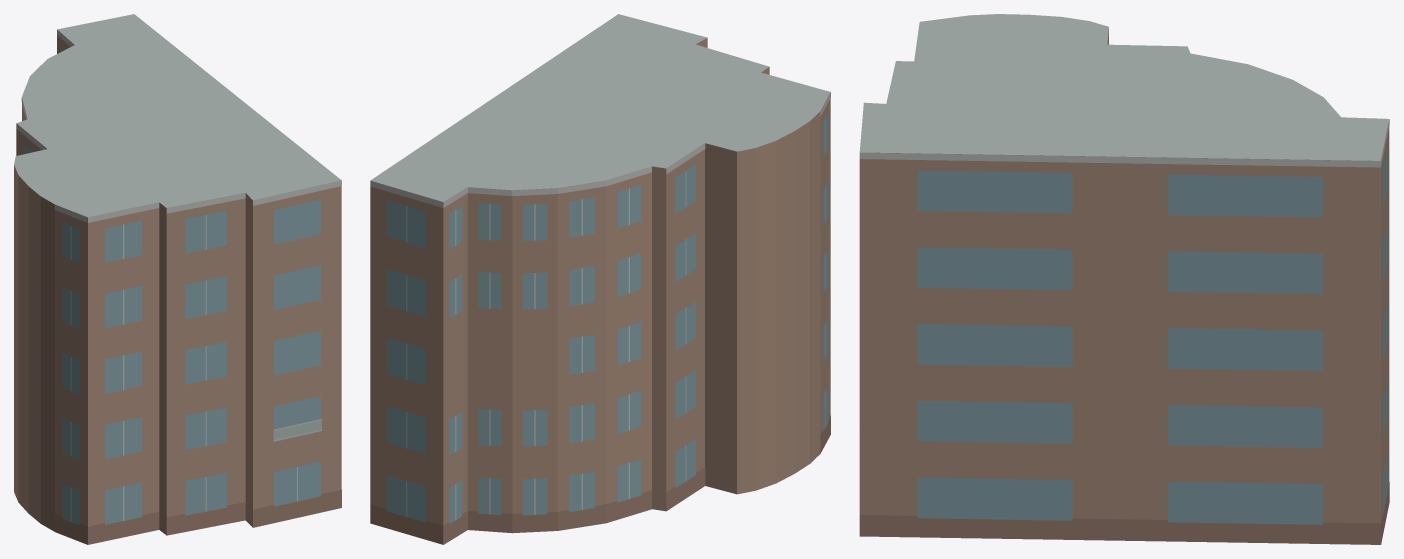
File: survey-upis-32874734.glb
The picture shows the model from 3 angles, left to right: view 1: azimuth 30°, elevation 25°; view 2: azimuth 150°, elevation 25°; view 3: azimuth 270°, elevation 25°; orthographic projection. The views are drawn at different scales.
Parts seen in each view (by area): view 1: survey-upis-32874734.tmp; view 2: survey-upis-32874734.tmp; view 3: survey-upis-32874734.tmp.
Part boxes in pixels (bbox=[...]): survey-upis-32874734.tmp: bbox=[14, 14, 341, 544]; survey-upis-32874734.tmp: bbox=[370, 14, 830, 544]; survey-upis-32874734.tmp: bbox=[859, 14, 1389, 544].
Bounding box in the file's own units: 11.62 × 14.15 × 17.71.
